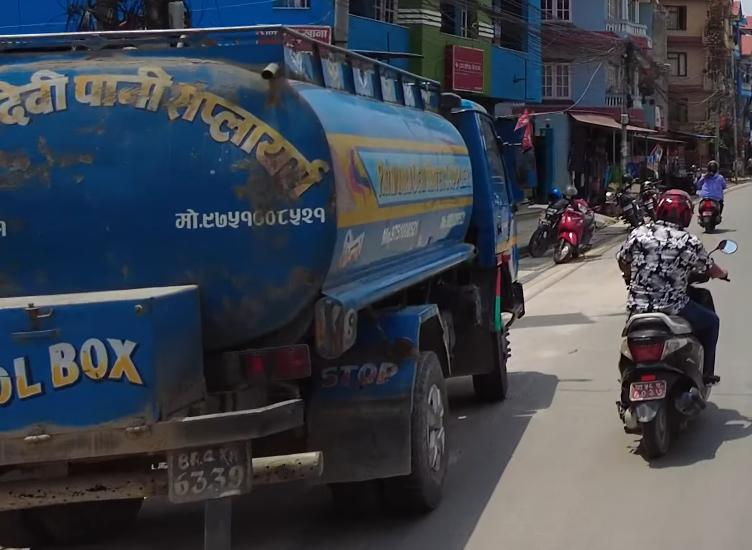mini_truck: (4, 28, 533, 520)
scooter: (620, 215, 725, 472), (558, 194, 597, 276), (695, 159, 726, 239)
